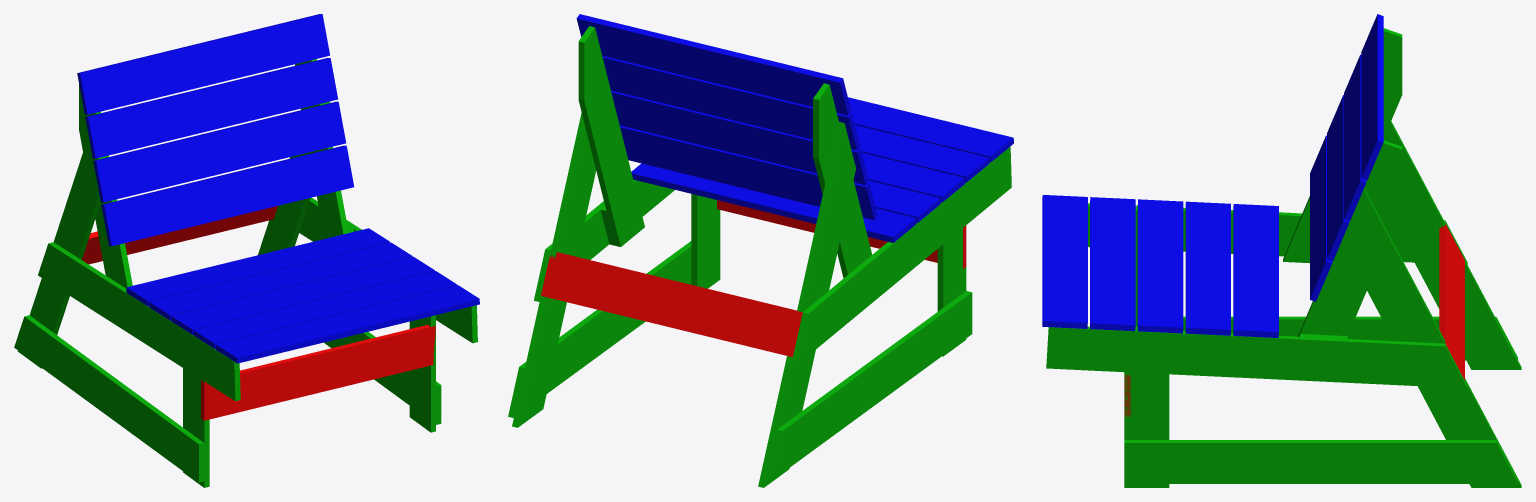
File: result.glb
3 views of the same model, side by side, from view 1: azimuth 30°, elevation 25°; view 2: azimuth 150°, elevation 25°; view 3: azimuth 270°, elevation 25° (orthographic). The views are drawn at different scales.
Parts seen in each view (by area): view 1: 712c5070-b839-4179-ba70-4c49f686bd03__Box_5, 29e4638e-798b-4d6f-a5b7-fd6e7d3f3b8e__Box_6, 0deee942-2a1b-40fd-8d32-2ac3e29ab395__Box_8, 2721a8c8-9c58-4145-94b7-d956560e167f__Box_7, 09c4ea63-86ee-4e94-9752-ff4b36889b6e__Plane_1, afb9a78f-adc9-49d3-86d1-065693d8fafb__undefined, b4cb8767-2e09-49ba-87b7-a9dd9d564a8e__undefined, c473fdba-3e2c-4a18-a41c-e89e5dcc1aaa__Box, ae3a453b-6c74-4939-babe-29eb776e3f24__Box_3, 7044ee5b-f3ea-4a9f-8745-5d51e3c819c5__Box_1, cd281b1a-cee2-4b1e-87f1-1a2d2b0d013f__Box_2, b16dcd96-49d2-4355-8384-9f6755097fa3__Box_4 (+9 smaller); view 2: c4380bfb-d5bd-42bf-ab23-68600e60adfe__Plane_2, b4cb8767-2e09-49ba-87b7-a9dd9d564a8e__undefined, afb9a78f-adc9-49d3-86d1-065693d8fafb__undefined, 0deee942-2a1b-40fd-8d32-2ac3e29ab395__Box_8, 4b58c775-d487-4e54-8021-bb3c5eb3c74b__undefined (×2), 2721a8c8-9c58-4145-94b7-d956560e167f__Box_7, 712c5070-b839-4179-ba70-4c49f686bd03__Box_5, 29e4638e-798b-4d6f-a5b7-fd6e7d3f3b8e__Box_6, 65662e3f-72e1-4f78-94b6-67c6fea8f59a__undefined, a47cf9c5-3814-4bdf-882c-b27f888c4d6a__undefined, ba4f6a63-401b-4b18-9816-117eb09d59c6__Plane, b16dcd96-49d2-4355-8384-9f6755097fa3__Box_4 (+9 smaller); view 3: 7c62ae6a-b8dd-49a9-9dd9-78806c02c886__undefined, ba4f6a63-401b-4b18-9816-117eb09d59c6__Plane, 4b58c775-d487-4e54-8021-bb3c5eb3c74b__undefined (×2), 65662e3f-72e1-4f78-94b6-67c6fea8f59a__undefined, cd281b1a-cee2-4b1e-87f1-1a2d2b0d013f__Box_2, 7044ee5b-f3ea-4a9f-8745-5d51e3c819c5__Box_1, ae3a453b-6c74-4939-babe-29eb776e3f24__Box_3, c473fdba-3e2c-4a18-a41c-e89e5dcc1aaa__Box, b16dcd96-49d2-4355-8384-9f6755097fa3__Box_4, a47cf9c5-3814-4bdf-882c-b27f888c4d6a__undefined, 78f7560b-d4e1-48c6-8a46-f8548c62f52c__undefined, 0deee942-2a1b-40fd-8d32-2ac3e29ab395__Box_8 (+7 smaller).
Boxes of the visible parts, bbox=[...] form: 712c5070-b839-4179-ba70-4c49f686bd03__Box_5: bbox=[101, 145, 354, 246]; 29e4638e-798b-4d6f-a5b7-fd6e7d3f3b8e__Box_6: bbox=[93, 101, 345, 202]; 0deee942-2a1b-40fd-8d32-2ac3e29ab395__Box_8: bbox=[77, 14, 329, 114]; 2721a8c8-9c58-4145-94b7-d956560e167f__Box_7: bbox=[85, 58, 338, 158]; 09c4ea63-86ee-4e94-9752-ff4b36889b6e__Plane_1: bbox=[201, 325, 435, 420]; afb9a78f-adc9-49d3-86d1-065693d8fafb__undefined: bbox=[14, 315, 204, 482]; b4cb8767-2e09-49ba-87b7-a9dd9d564a8e__undefined: bbox=[38, 242, 240, 401]; c473fdba-3e2c-4a18-a41c-e89e5dcc1aaa__Box: bbox=[216, 285, 479, 363]; ae3a453b-6c74-4939-babe-29eb776e3f24__Box_3: bbox=[148, 242, 412, 320]; 7044ee5b-f3ea-4a9f-8745-5d51e3c819c5__Box_1: bbox=[193, 271, 457, 349]; cd281b1a-cee2-4b1e-87f1-1a2d2b0d013f__Box_2: bbox=[171, 256, 434, 334]; b16dcd96-49d2-4355-8384-9f6755097fa3__Box_4: bbox=[126, 228, 389, 306]; c4380bfb-d5bd-42bf-ab23-68600e60adfe__Plane_2: bbox=[541, 252, 802, 357]; b4cb8767-2e09-49ba-87b7-a9dd9d564a8e__undefined: bbox=[791, 146, 1011, 364]; afb9a78f-adc9-49d3-86d1-065693d8fafb__undefined: bbox=[765, 291, 972, 480]; 0deee942-2a1b-40fd-8d32-2ac3e29ab395__Box_8: bbox=[576, 14, 851, 115]; 4b58c775-d487-4e54-8021-bb3c5eb3c74b__undefined (×2): bbox=[512, 113, 596, 427]; 2721a8c8-9c58-4145-94b7-d956560e167f__Box_7: bbox=[602, 56, 859, 150]; 712c5070-b839-4179-ba70-4c49f686bd03__Box_5: bbox=[619, 125, 877, 220]; 29e4638e-798b-4d6f-a5b7-fd6e7d3f3b8e__Box_6: bbox=[611, 90, 868, 185]; 65662e3f-72e1-4f78-94b6-67c6fea8f59a__undefined: bbox=[758, 122, 855, 487]; a47cf9c5-3814-4bdf-882c-b27f888c4d6a__undefined: bbox=[578, 26, 644, 246]; ba4f6a63-401b-4b18-9816-117eb09d59c6__Plane: bbox=[508, 241, 691, 417]; b16dcd96-49d2-4355-8384-9f6755097fa3__Box_4: bbox=[631, 163, 916, 242]; 7c62ae6a-b8dd-49a9-9dd9-78806c02c886__undefined: bbox=[1046, 326, 1467, 388]; ba4f6a63-401b-4b18-9816-117eb09d59c6__Plane: bbox=[1124, 440, 1517, 483]; 4b58c775-d487-4e54-8021-bb3c5eb3c74b__undefined (×2): bbox=[1341, 188, 1521, 487]; 65662e3f-72e1-4f78-94b6-67c6fea8f59a__undefined: bbox=[1383, 121, 1521, 369]; cd281b1a-cee2-4b1e-87f1-1a2d2b0d013f__Box_2: bbox=[1137, 199, 1183, 333]; 7044ee5b-f3ea-4a9f-8745-5d51e3c819c5__Box_1: bbox=[1090, 197, 1135, 331]; ae3a453b-6c74-4939-babe-29eb776e3f24__Box_3: bbox=[1185, 201, 1230, 335]; c473fdba-3e2c-4a18-a41c-e89e5dcc1aaa__Box: bbox=[1042, 195, 1087, 328]; b16dcd96-49d2-4355-8384-9f6755097fa3__Box_4: bbox=[1233, 204, 1278, 337]; a47cf9c5-3814-4bdf-882c-b27f888c4d6a__undefined: bbox=[1298, 140, 1402, 336]; 78f7560b-d4e1-48c6-8a46-f8548c62f52c__undefined: bbox=[1124, 326, 1169, 487]; 0deee942-2a1b-40fd-8d32-2ac3e29ab395__Box_8: bbox=[1361, 14, 1383, 180].
Bounding box in the file's own units: 593 × 769 × 953.
